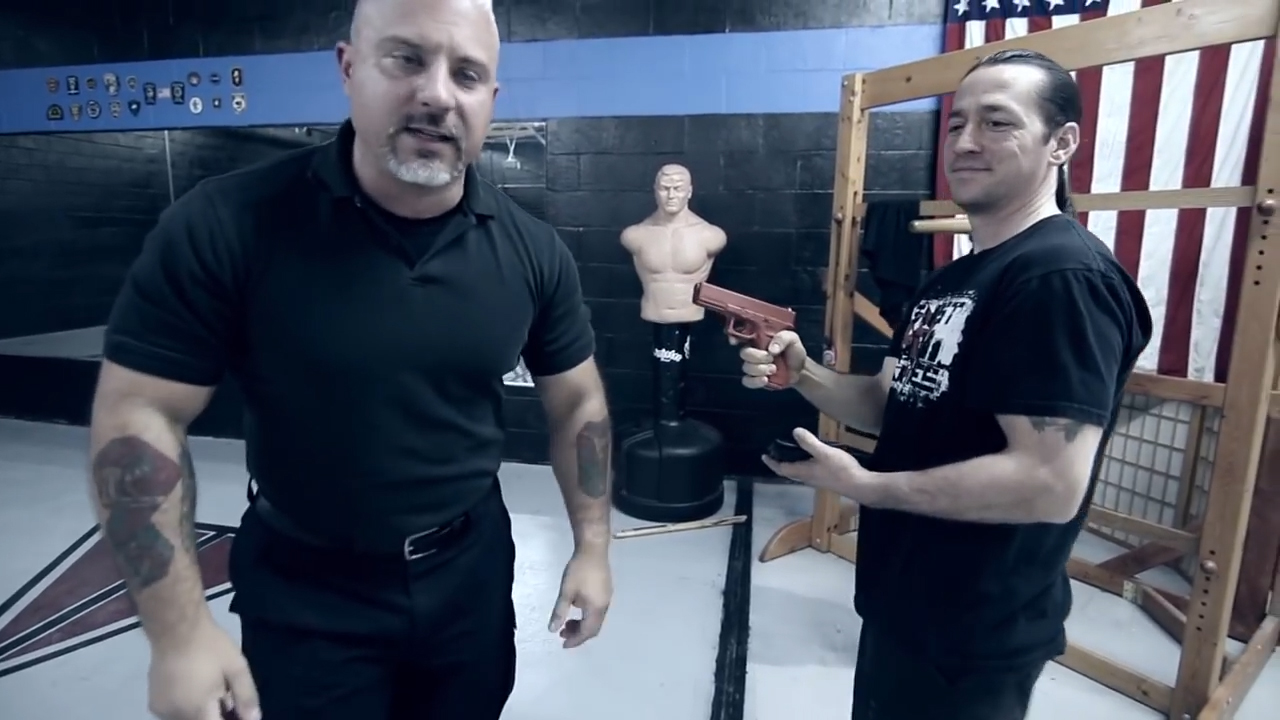pistol: (690, 280, 798, 392)
